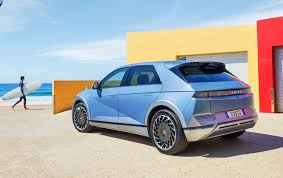Honda Ioniq: (61, 54, 261, 159)
